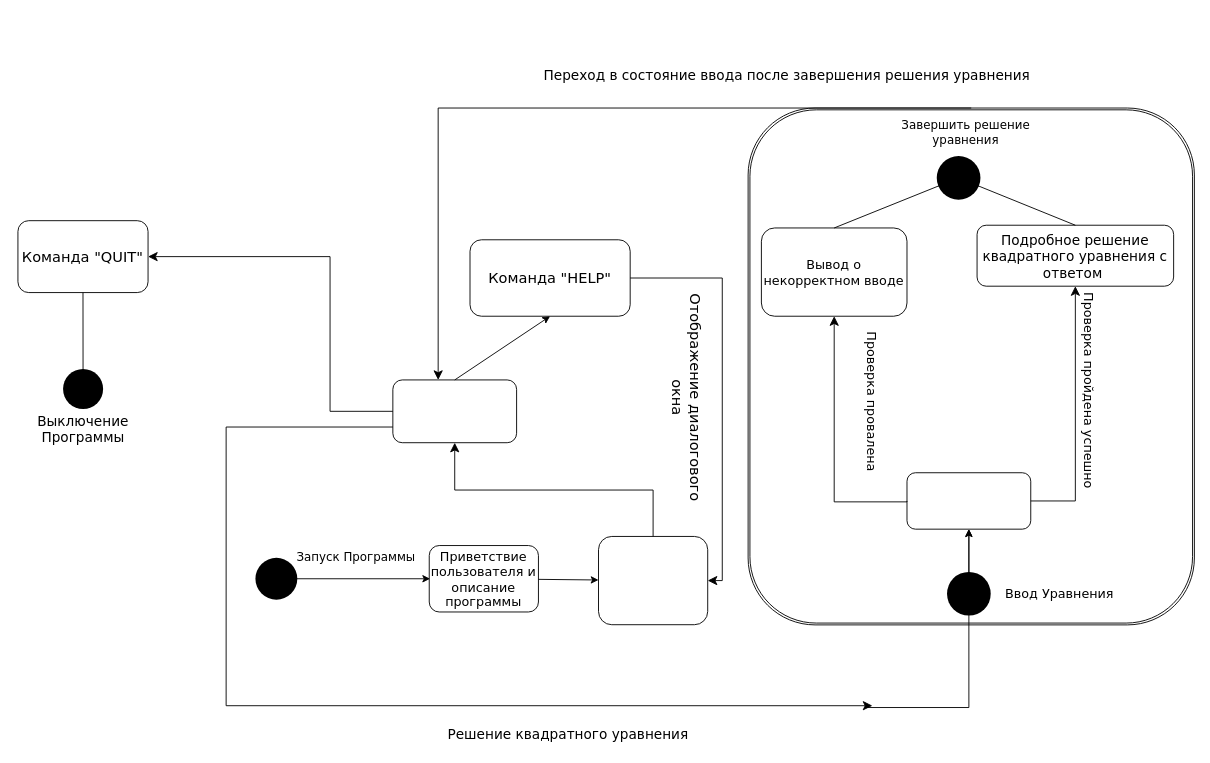
Image size: 1210x763. Some labels were removed from this diagram. Each missing label, with the centre of its shape:
Ввод команды: (x=454, y=411)
Диалоговое окно (список доступных команд, инструция по использованию системы): (x=653, y=580)
Проверка на правильность ввода: (x=968, y=500)
